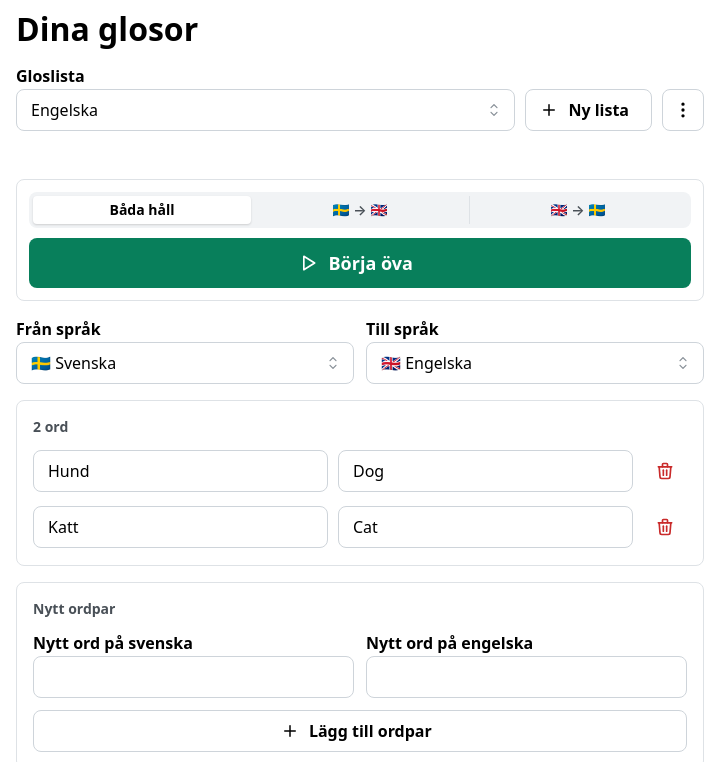
Test: EditPage › deletes a word pair
Expected: the dropdown labelled "Gloslista" is shown, [16,89,515,131]
Click the button named "Ta bort ordpar 1" at (665, 471), box [643,449,687,493]
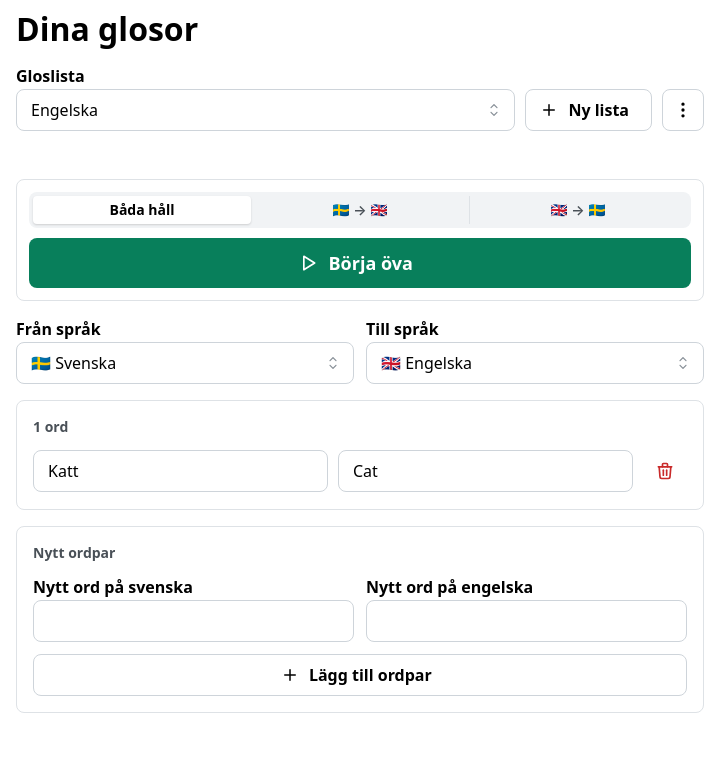
Expected: the field named "Ord 1, vänster (svenska)" holds "Katt", [33,450,328,492]
Expected: the heading "1 ord" is shown, [33,417,68,436]
